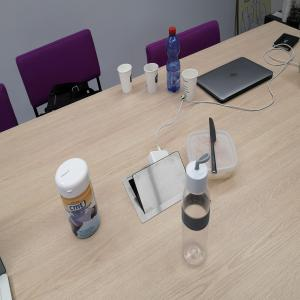Cup: (183, 70, 199, 103), (145, 64, 160, 95), (118, 65, 133, 95)
Plastic-bottle: (182, 161, 213, 269), (167, 27, 182, 94)
